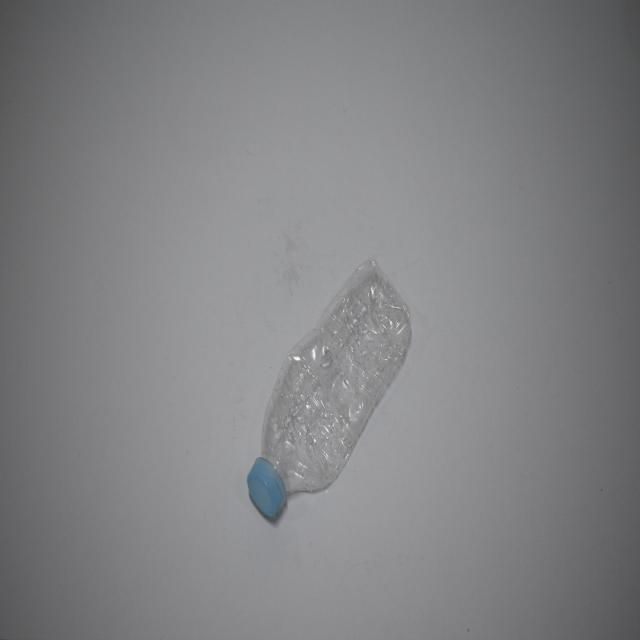empty: (247, 260, 411, 517)
